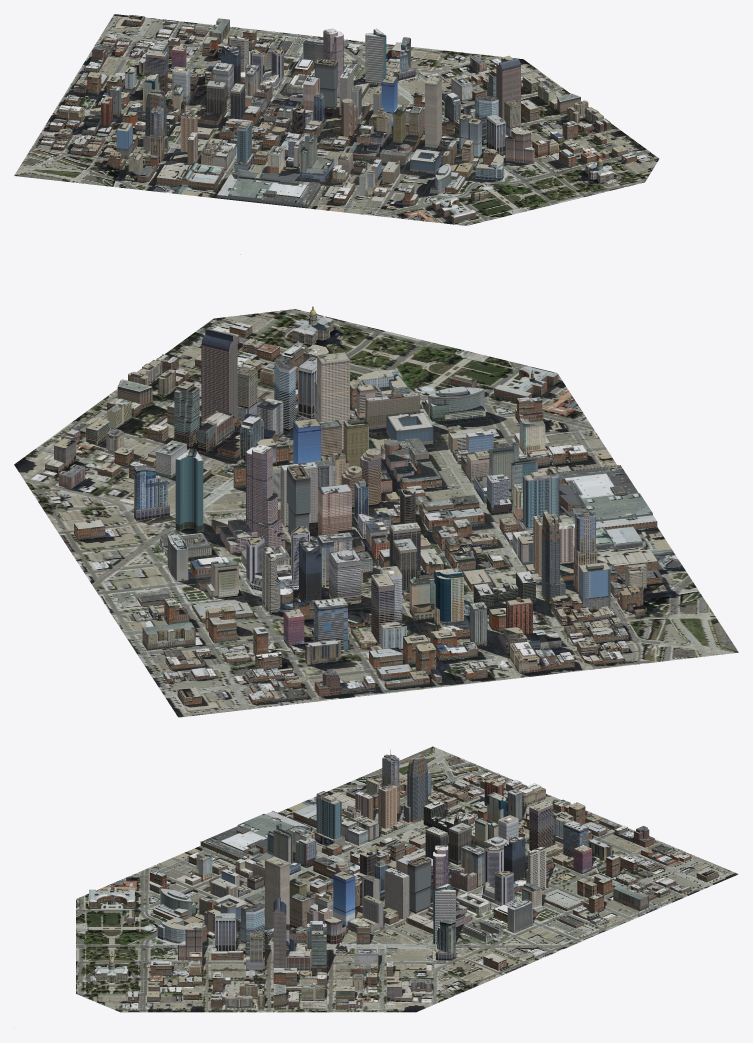
Rendered from city_pack_8.glb.
The picture shows the model from 3 angles, top to bottom: view 1: azimuth 30°, elevation 25°; view 2: azimuth 150°, elevation 25°; view 3: azimuth 270°, elevation 25°; orthographic projection. The views are drawn at different scales.
Parts seen in each view (by area): view 1: Material3 (×37), Material2 (×6); view 2: Material3 (×41), Material2 (×9); view 3: Material3 (×37), Material2 (×5).
Part boxes in pixels (box(x1,y1,x2,y2)): Material3 (×37): box(40, 14, 659, 225); Material2 (×6): box(14, 18, 593, 219); Material3 (×41): box(14, 309, 662, 717); Material2 (×9): box(142, 352, 738, 683); Material3 (×37): box(76, 750, 738, 1012); Material2 (×5): box(120, 746, 648, 942).
Bounding box in the file's own units: 75038 × 8616 × 81491.
100 materials, 100 textured.
